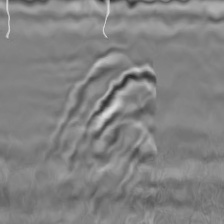Utility: (54, 49, 157, 157)
